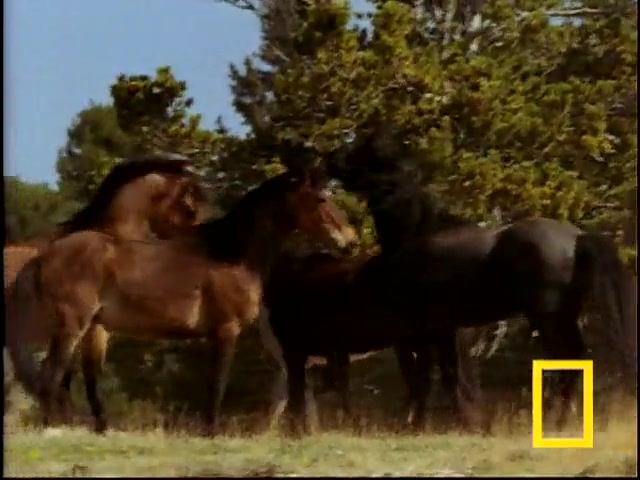horse: (18, 167, 362, 434)
